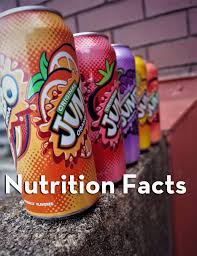can: (1, 6, 102, 221)
